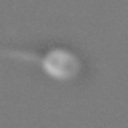normal: (1, 44, 44, 65)
